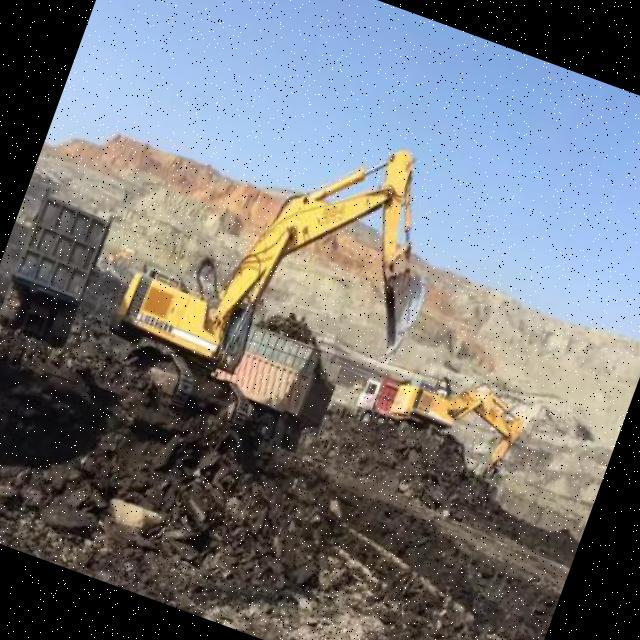Dump Truck: (0, 191, 111, 340), (221, 351, 336, 448), (252, 306, 344, 378), (356, 371, 400, 423)
Excavator: (91, 75, 477, 470), (376, 351, 534, 488)
